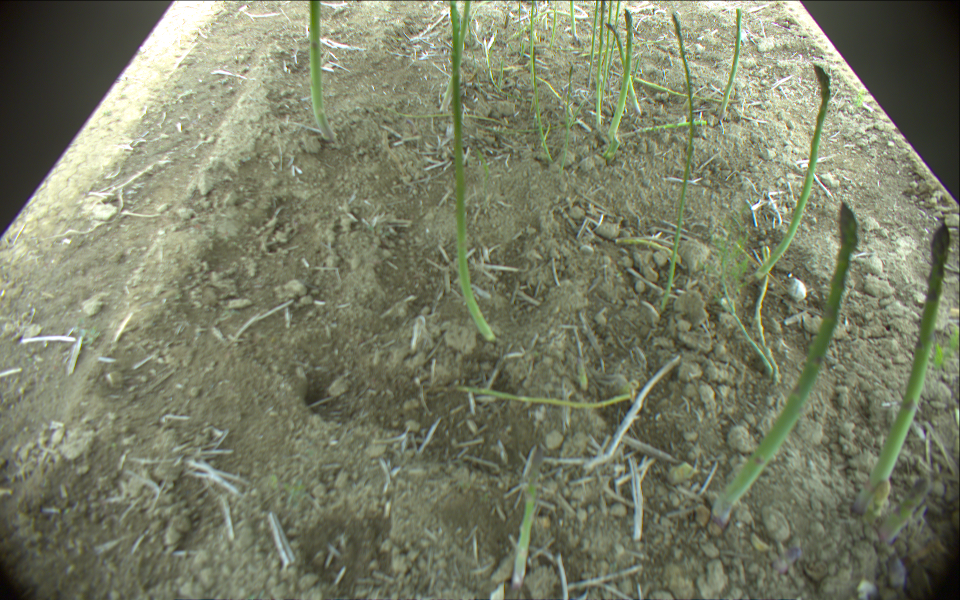aspa: (712, 198, 860, 526), (855, 222, 952, 507), (747, 61, 830, 289), (447, 1, 499, 342), (660, 13, 694, 311), (507, 446, 544, 585), (529, 1, 556, 161), (378, 105, 527, 132), (308, 1, 336, 142), (871, 480, 927, 549), (607, 21, 644, 119), (714, 8, 741, 124), (506, 3, 588, 40), (608, 8, 631, 137), (615, 119, 709, 144), (559, 62, 577, 176), (595, 1, 606, 126), (586, 1, 600, 84), (608, 1, 622, 81), (458, 1, 473, 59), (606, 1, 614, 62), (569, 1, 580, 39), (515, 1, 523, 51)
